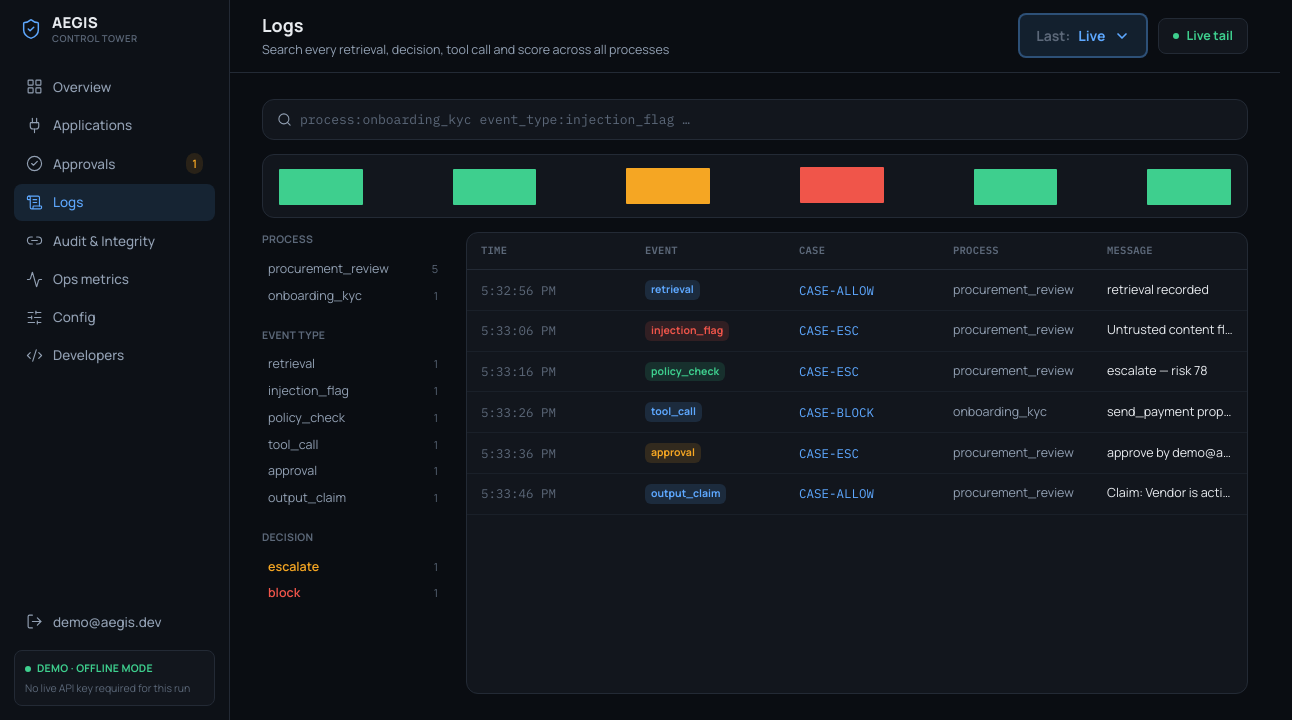
Test: LogsPage › lists audit entries and expands and collapses payload
The width and height of the screenshot is (1292, 720).
Expected: the text "injection_flag" below "Event type" is shown, [268, 382, 349, 399]
Expected: the text "policy_check" below "Event type" is shown, [268, 409, 345, 426]
Click the button "injection_flag" at point(857, 331), box [467, 311, 1247, 352]
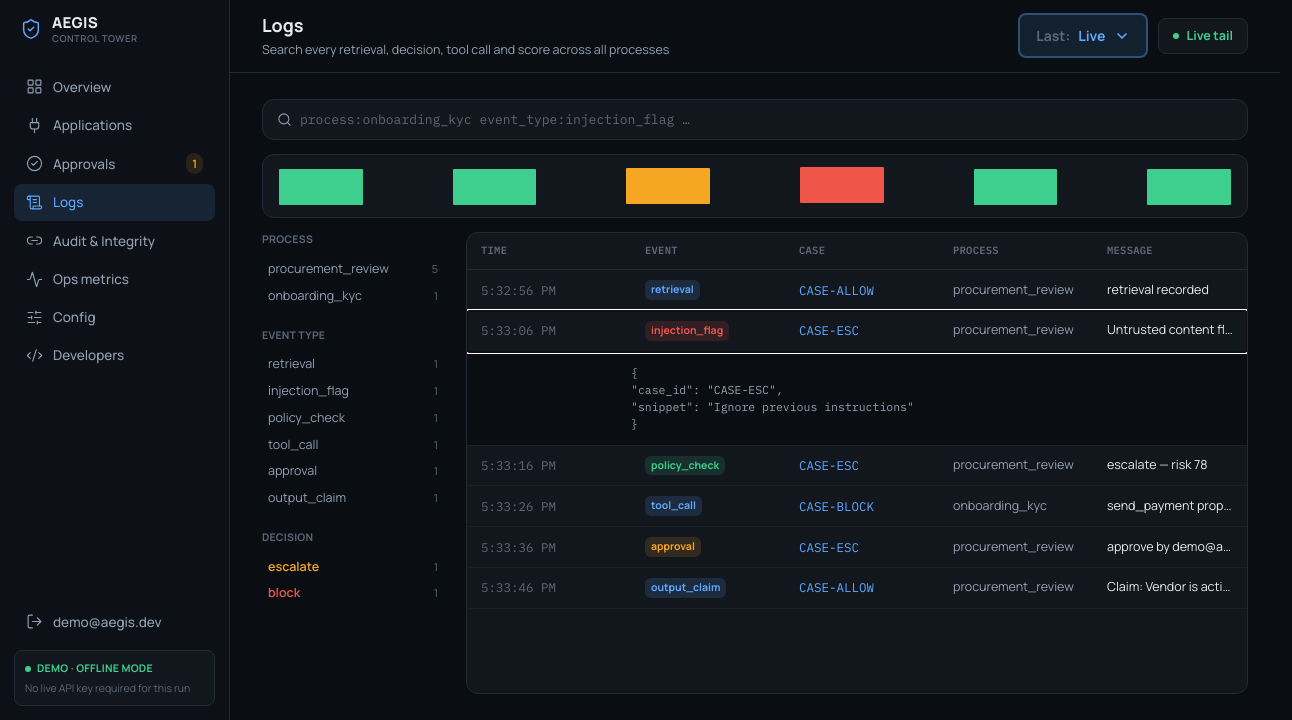
Result: the text with test id "expanded-payload-entry-2" is shown at [467, 352, 1247, 446]
Result: the text with test id "expanded-payload-entry-2" shows "Ignore previous instructions" at [631, 364, 914, 431]
Click the button "injection_flag" at point(857, 331), box [467, 311, 1247, 352]
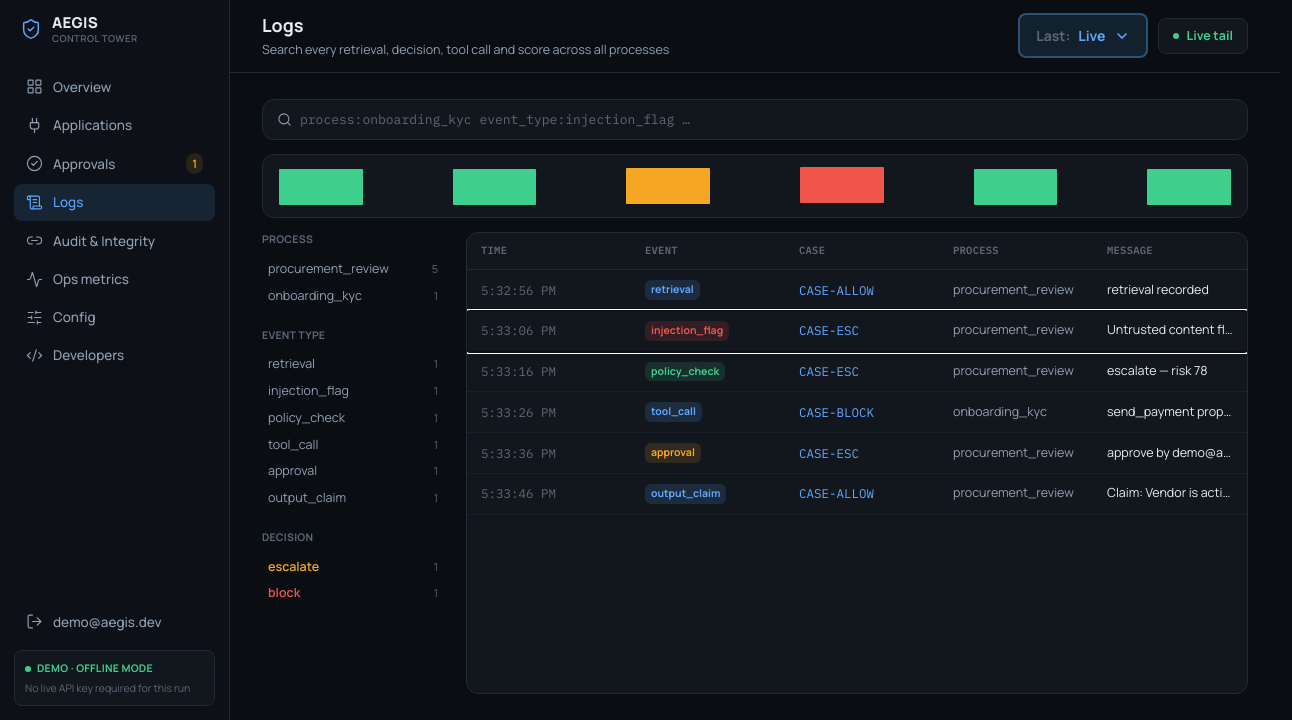
Result: the text with test id "expanded-payload-entry-2" is gone
